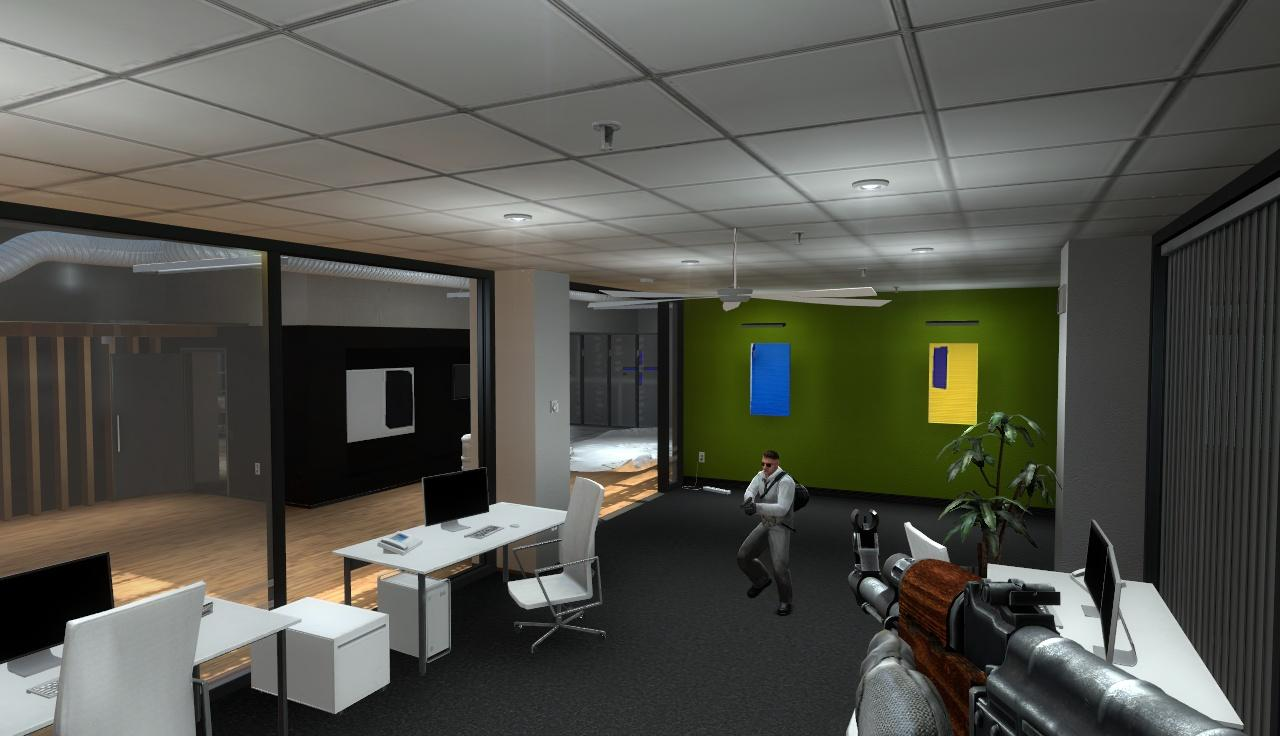rifle: (841, 503, 1280, 736)
tt: (743, 450, 792, 602)
tthead: (762, 450, 779, 475)
